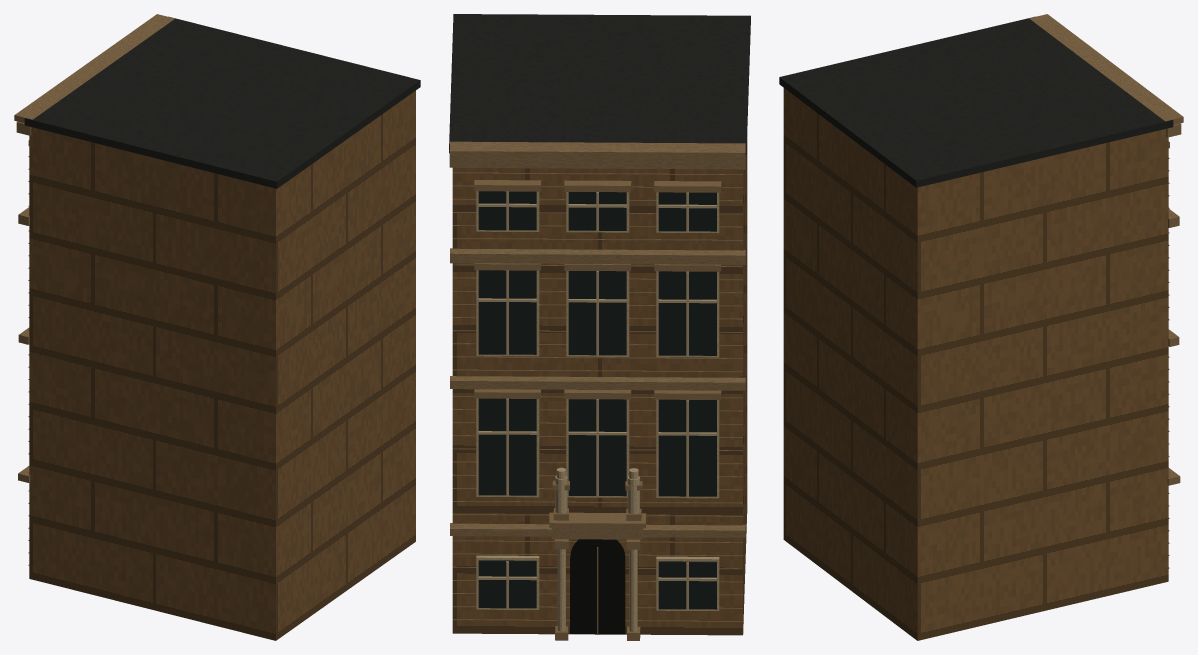
The picture shows the model from 3 angles, left to right: view 1: azimuth 30°, elevation 25°; view 2: azimuth 150°, elevation 25°; view 3: azimuth 270°, elevation 25°; orthographic projection. The views are drawn at different scales.
Parts seen in each view (by area): view 1: huis-met-de-beelden-1, huis-met-de-beelden-2, huis-met-de-beelden-5; view 2: huis-met-de-beelden-1, huis-met-de-beelden-4, huis-met-de-beelden-2, huis-met-de-beelden-5, huis-met-de-beelden-0, huis-met-de-beelden-3; view 3: huis-met-de-beelden-1, huis-met-de-beelden-2, huis-met-de-beelden-5.
Part boxes in pixels (left/top/right/bottom): huis-met-de-beelden-1: left=29, top=90, right=415, bottom=640; huis-met-de-beelden-2: left=24, top=16, right=420, bottom=188; huis-met-de-beelden-5: left=14, top=14, right=174, bottom=565; huis-met-de-beelden-1: left=452, top=136, right=747, bottom=635; huis-met-de-beelden-4: left=478, top=191, right=716, bottom=609; huis-met-de-beelden-2: left=449, top=14, right=750, bottom=154; huis-met-de-beelden-5: left=449, top=141, right=745, bottom=640; huis-met-de-beelden-0: left=476, top=191, right=719, bottom=631; huis-met-de-beelden-3: left=570, top=539, right=625, bottom=634; huis-met-de-beelden-1: left=783, top=88, right=1168, bottom=640; huis-met-de-beelden-2: left=779, top=16, right=1173, bottom=187; huis-met-de-beelden-5: left=1029, top=14, right=1183, bottom=568.
Size of the model in its own units: 12.09 by 15.64 by 12.41.
Materials: 6 (6 with a texture image).
